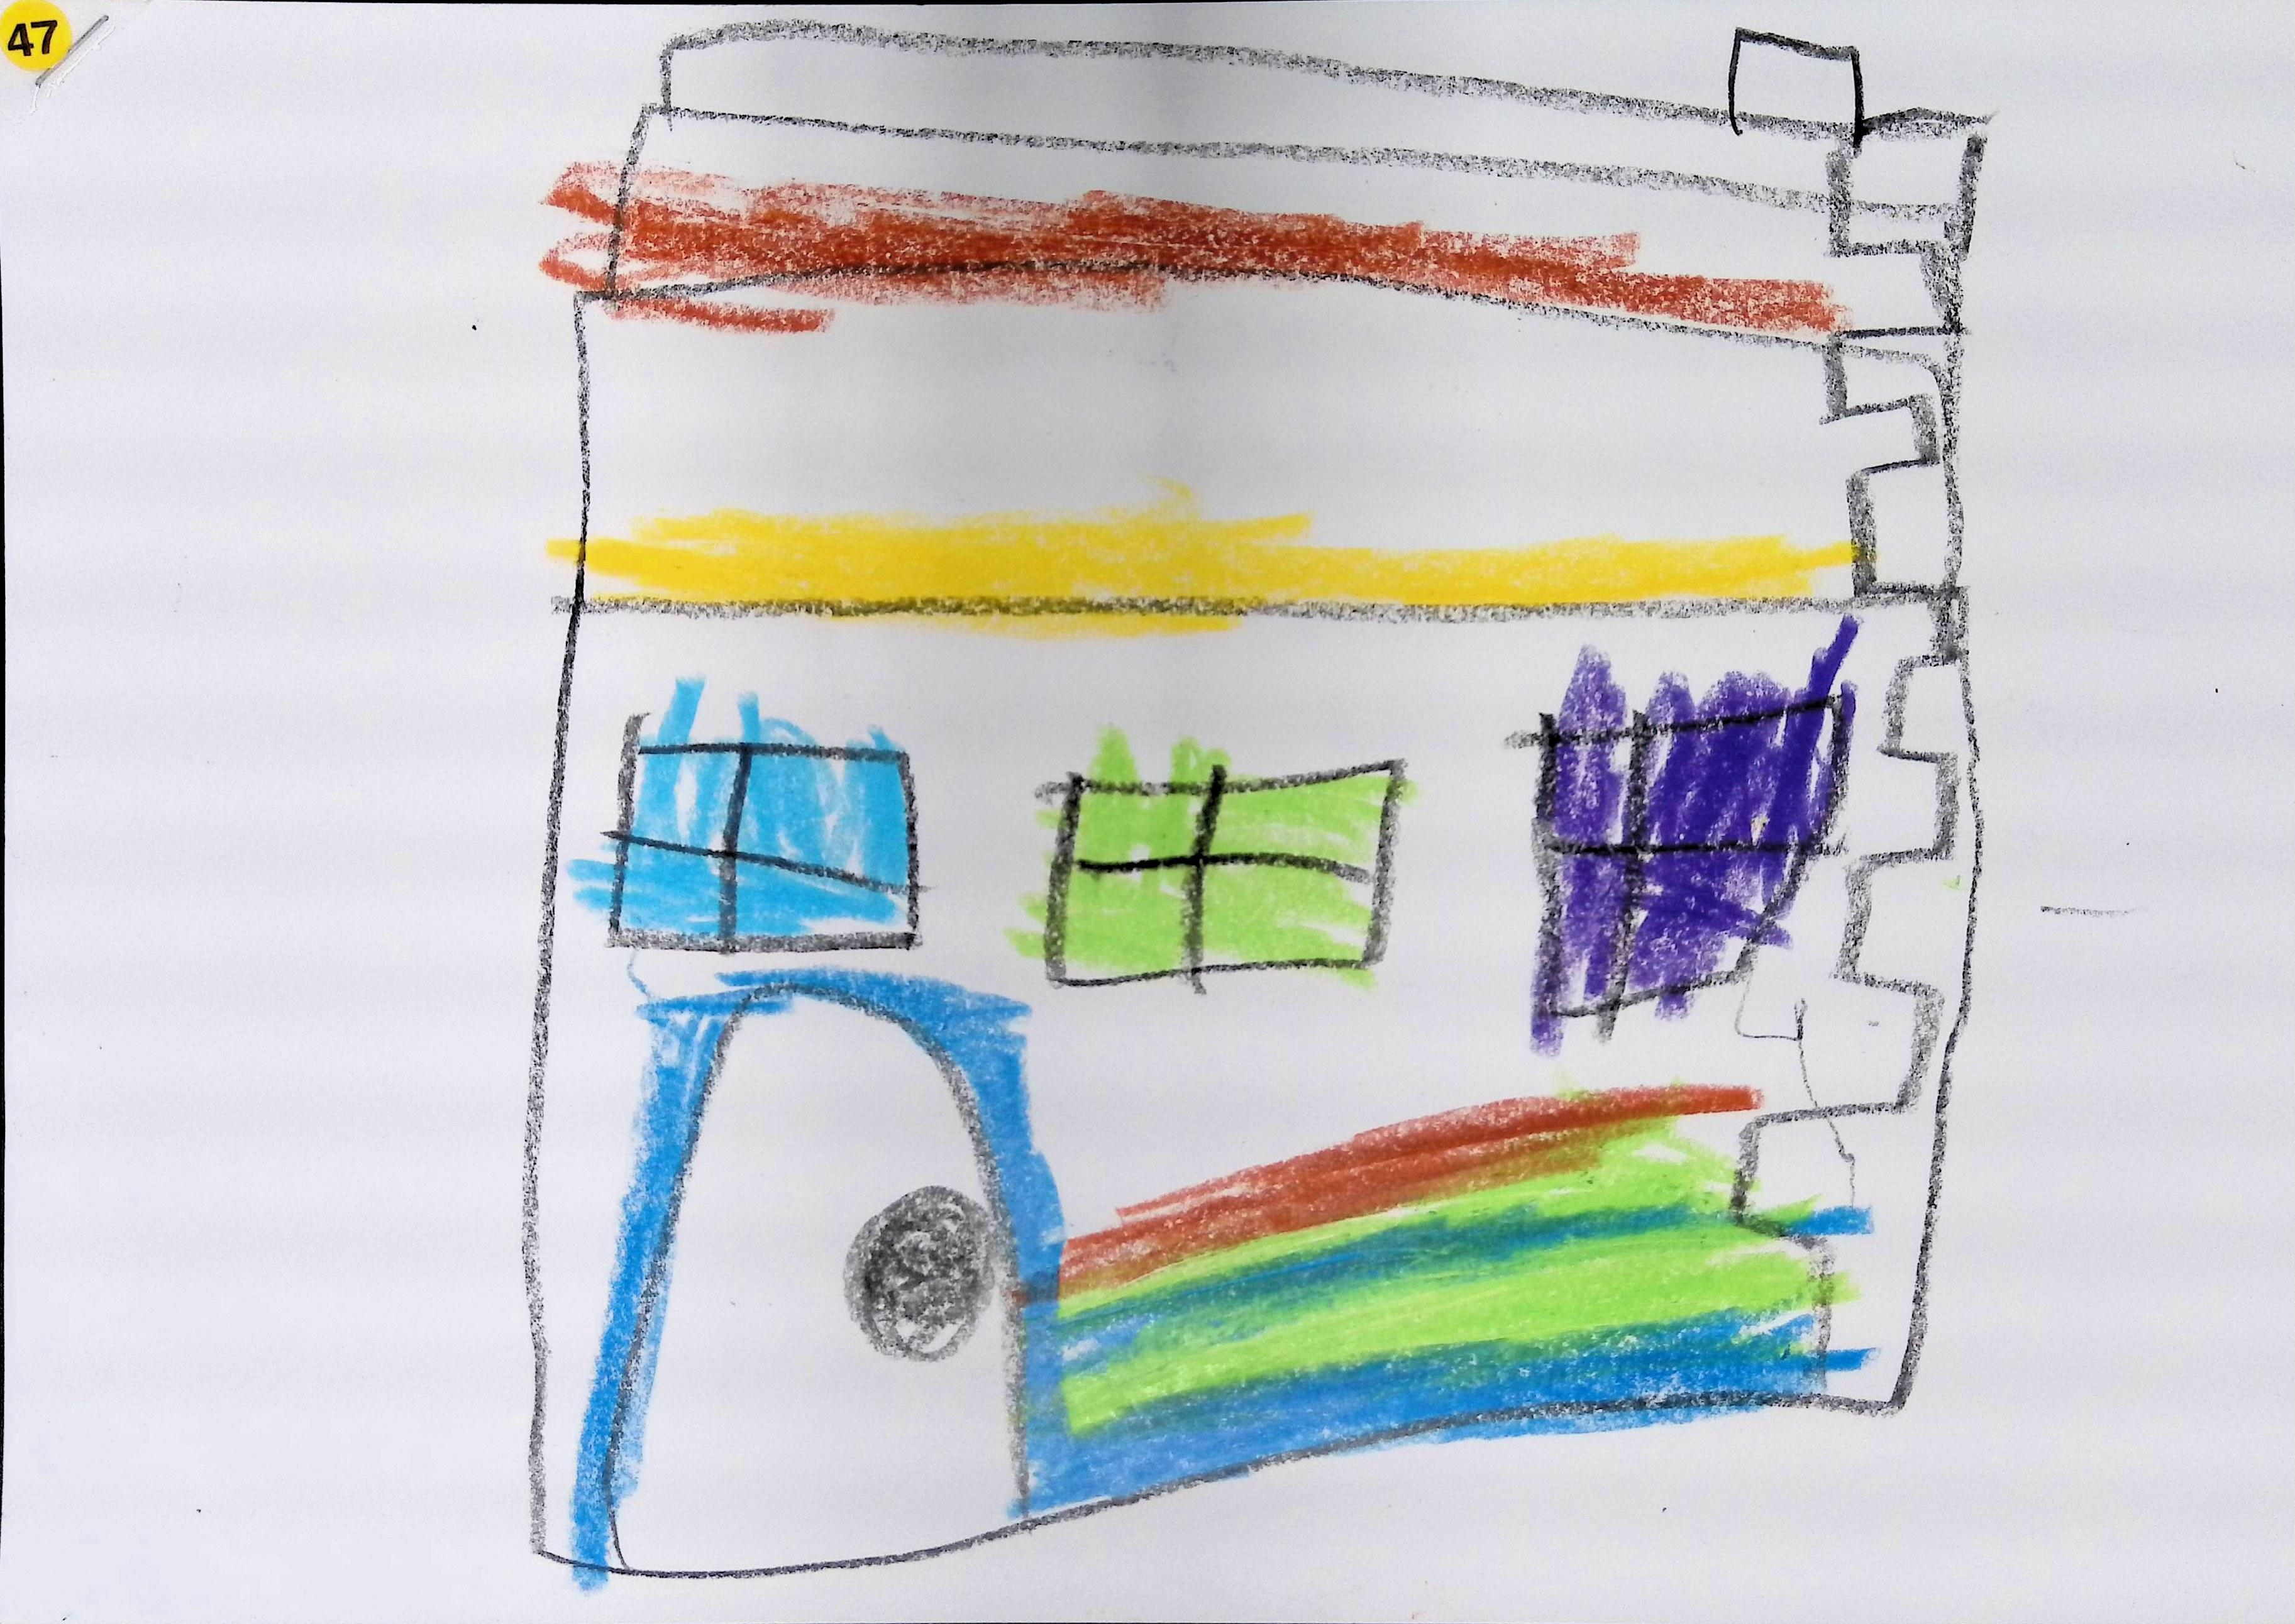chimney: (1729, 23, 1873, 148)
door: (619, 998, 1016, 1570)
house: (518, 18, 1993, 1585)
roof: (657, 16, 1991, 209)
wall: (524, 114, 1987, 1580)
window: (1536, 692, 1857, 1023), (1044, 761, 1406, 988), (612, 742, 916, 951)
